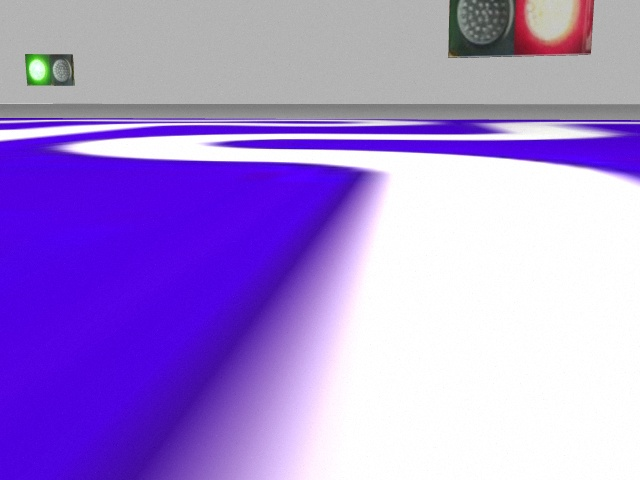red: (516, 1, 591, 52)
